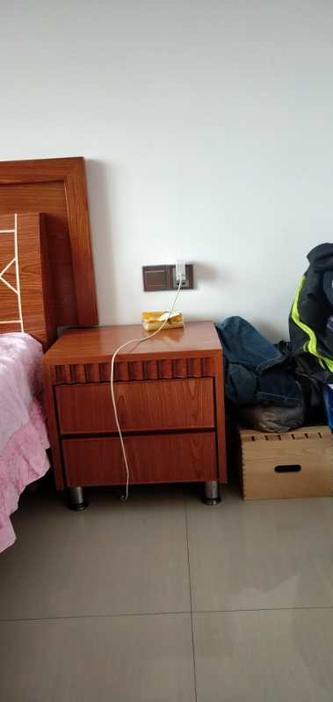switch: (139, 265, 169, 292)
